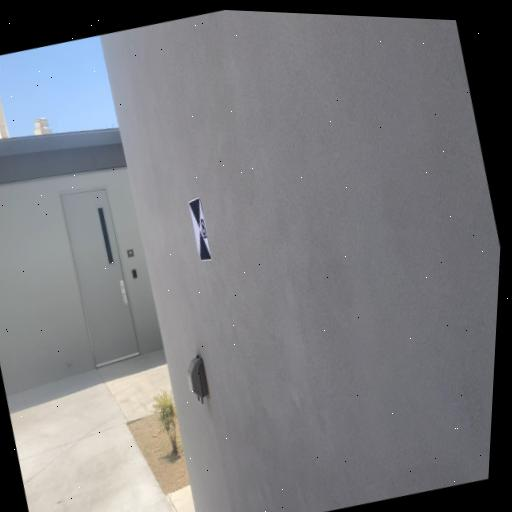target8: (189, 196, 213, 259)
